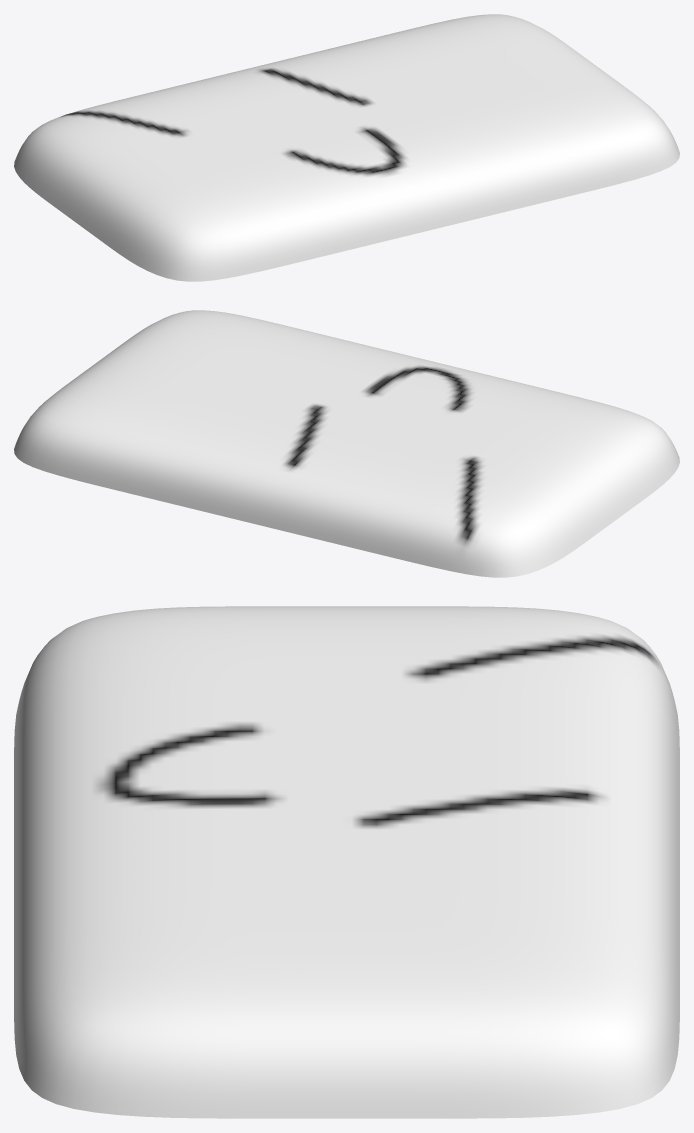
File: screen.fbx
3 renders of one model, top to bottom at view 1: azimuth 30°, elevation 25°; view 2: azimuth 150°, elevation 25°; view 3: azimuth 270°, elevation 25°, orthographic. The views are drawn at different scales.
Visible parts, largest first — view 1: Plane.001; view 2: Plane.001; view 3: Plane.001.
Part boxes in pixels (x1,y1,x2,y2): Plane.001: (14,14,679,281); Plane.001: (14,310,679,577); Plane.001: (14,606,679,1118).
Bounding box in the file's own units: 343 × 28.54 × 206.
